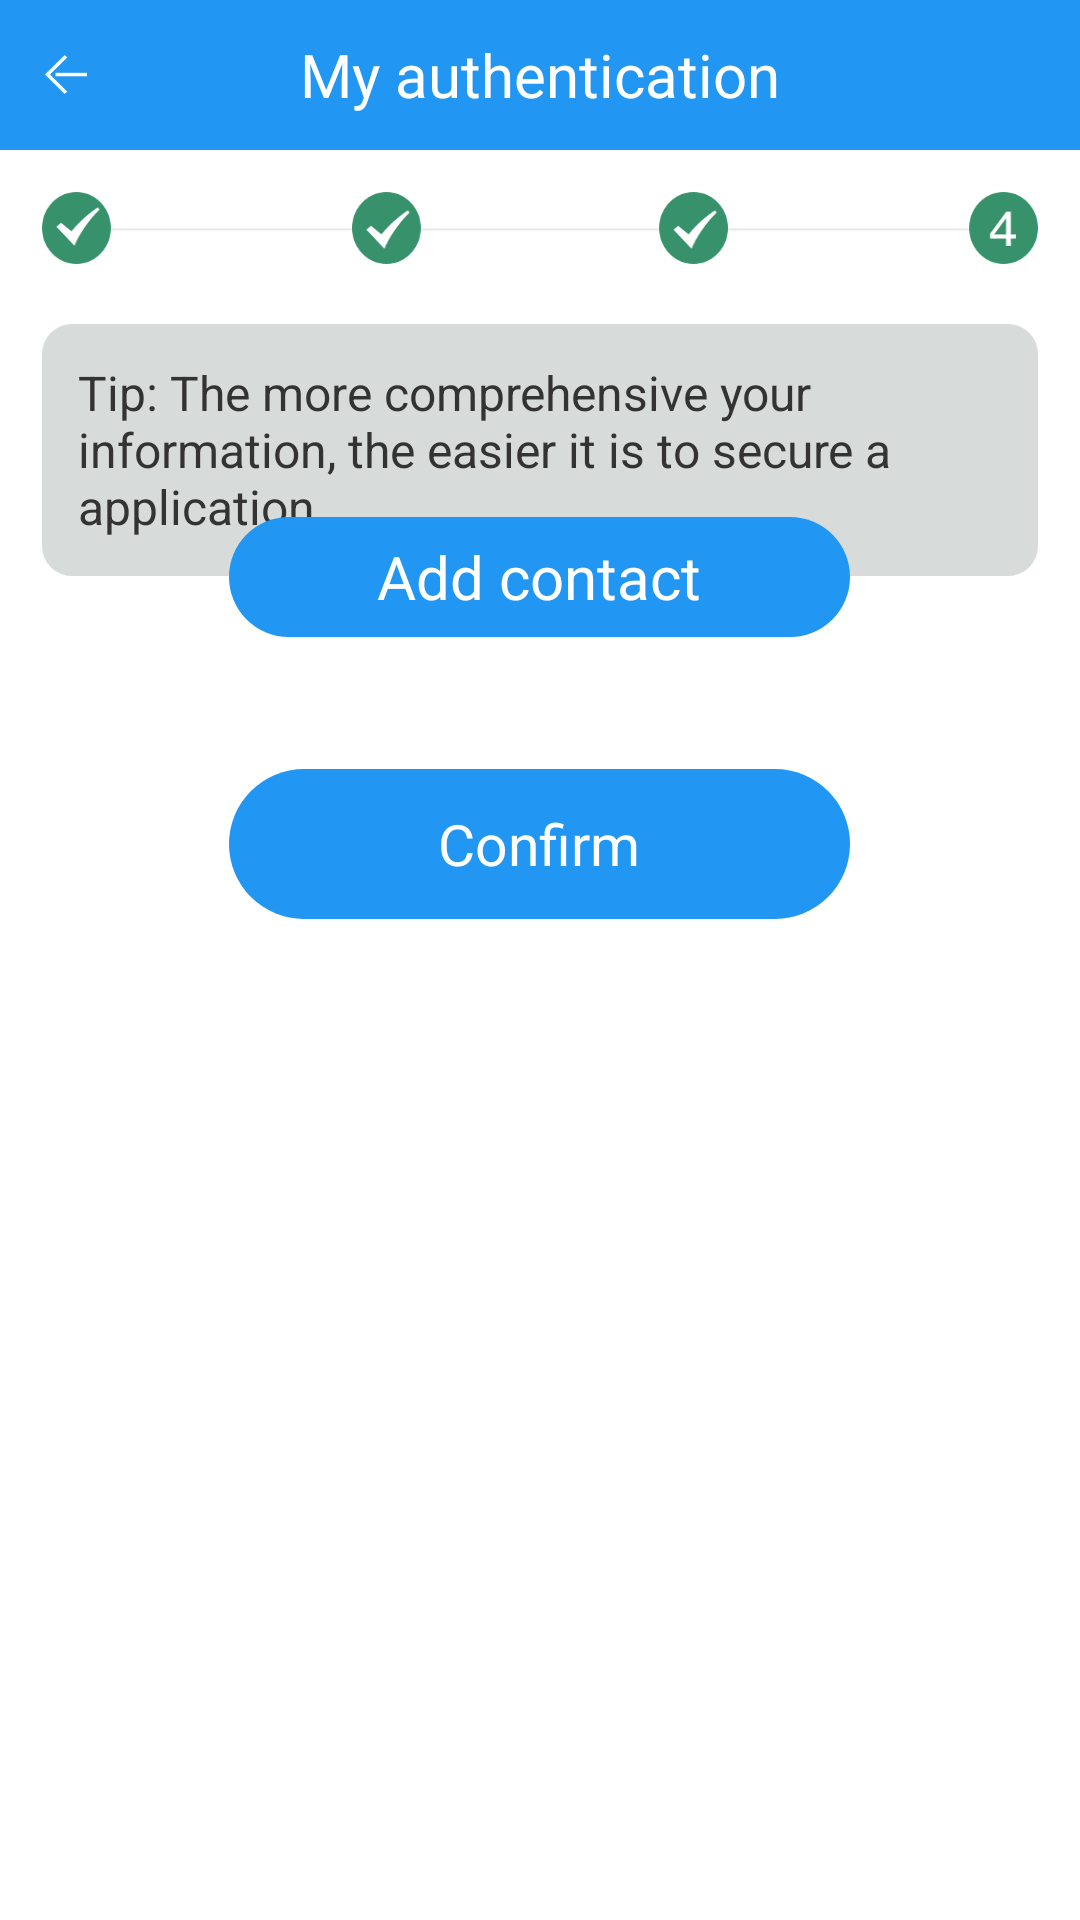

Named icons in this screenshot (1080 × 1920) and their bounding boxes, (x1, y1, x2, y2):
back: (45, 55, 87, 94)
